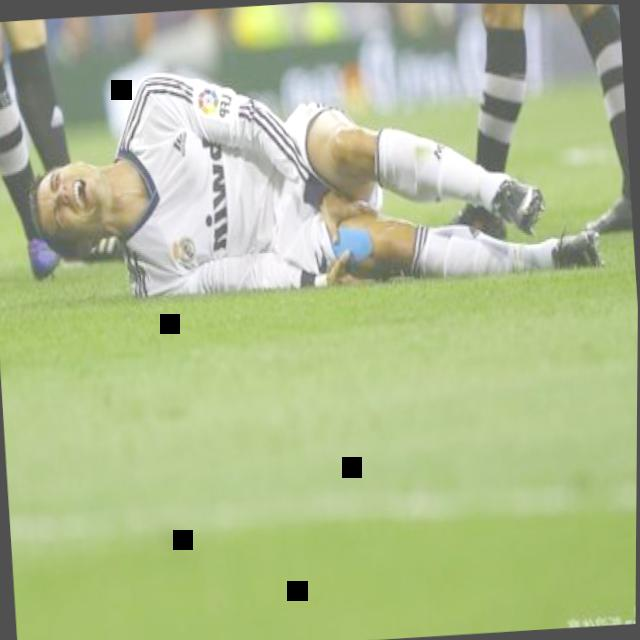Fall-Detected: (16, 24, 597, 317)
